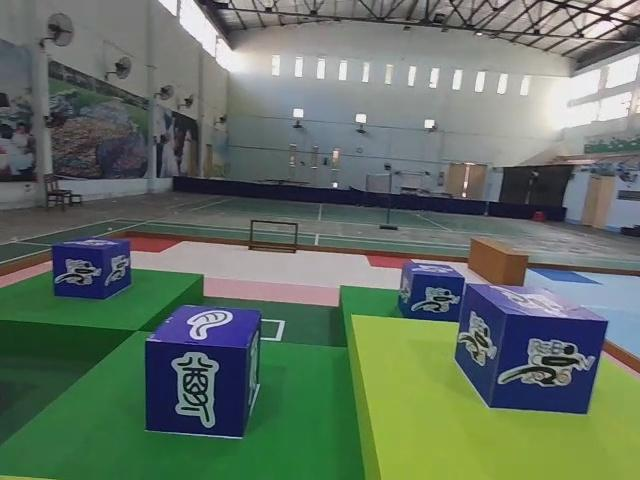R1 Blue: (456, 288, 610, 417), (50, 238, 133, 302), (399, 260, 468, 322)
R2 Fake Blue: (145, 304, 265, 441)
